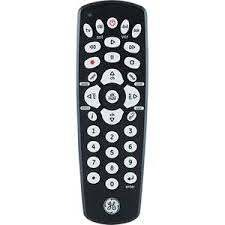remote control: (67, 0, 155, 225)
